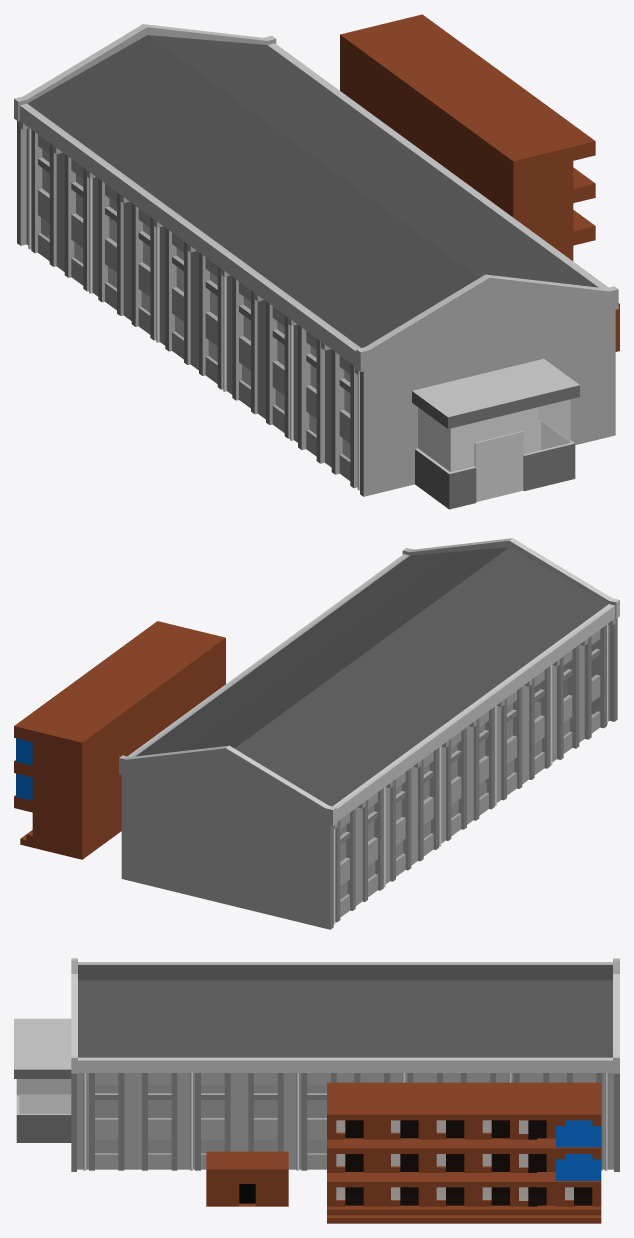
3 renders of one model, top to bottom at view 1: azimuth 30°, elevation 25°; view 2: azimuth 150°, elevation 25°; view 3: azimuth 270°, elevation 25°, orthographic. The views are drawn at different scales.
Parts seen in each view (by area): view 1: pPrism3, pCube1, pCube4, pCube2, pPrism1, pPrism2; view 2: pPrism3, pCube1, pCube4, pPrism2, pPrism1; view 3: pPrism3, pCube4, pCube1, pCube2, pCube3, pPrism1, pPrism2, pCylinder1, pCylinder6.
Boxes of the visible parts, x1,y1,x2,y2 form: pPrism3: (19, 35, 608, 366); pCube1: (17, 121, 615, 496); pCube4: (340, 14, 595, 260); pCube2: (412, 358, 579, 509); pPrism1: (356, 274, 618, 371); pPrism2: (14, 24, 276, 121); pPrism3: (127, 547, 615, 821); pCube1: (121, 618, 617, 929); pCube4: (14, 621, 225, 859); pPrism2: (119, 745, 336, 826); pPrism1: (402, 538, 619, 618); pPrism3: (78, 962, 612, 1072); pCube4: (327, 1082, 601, 1223); pCube1: (71, 1073, 619, 1171); pCube2: (14, 1018, 71, 1142); pCube3: (206, 1151, 288, 1206); pPrism1: (71, 958, 77, 1073); pPrism2: (613, 958, 619, 1073); pCylinder1: (83, 1073, 86, 1170); pCylinder6: (604, 1073, 607, 1170).
Bounding box in the file's own units: 26.44 × 12 × 44.17.
